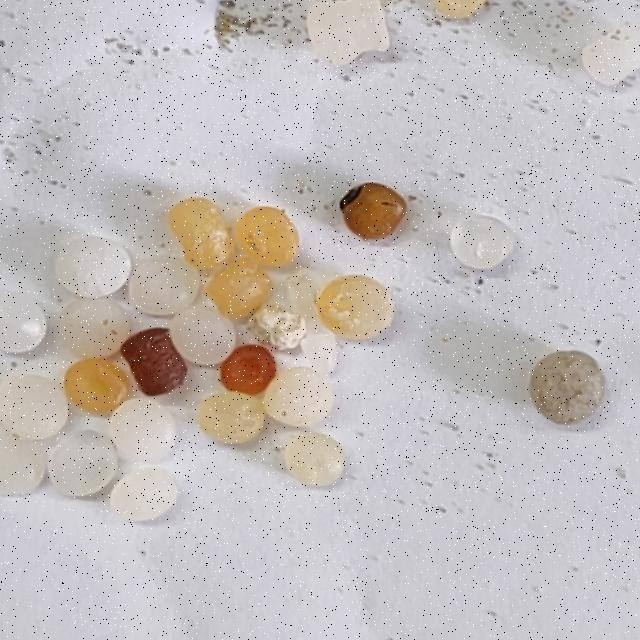beads: (308, 258, 407, 357), (520, 339, 618, 435), (36, 420, 127, 507), (159, 292, 246, 378), (54, 345, 137, 426), (331, 168, 413, 249), (199, 250, 279, 330), (258, 358, 341, 435), (275, 422, 355, 499), (101, 459, 184, 532), (51, 232, 132, 303), (58, 296, 132, 360), (0, 375, 69, 443), (449, 212, 520, 275), (242, 296, 311, 360), (108, 399, 177, 463), (129, 257, 200, 316), (236, 207, 297, 266), (199, 392, 263, 444), (0, 425, 46, 496), (0, 290, 46, 354), (221, 347, 275, 395)
fragments: (276, 265, 347, 379), (163, 188, 241, 278), (115, 321, 193, 404), (303, 0, 392, 71), (1, 0, 1, 0)
